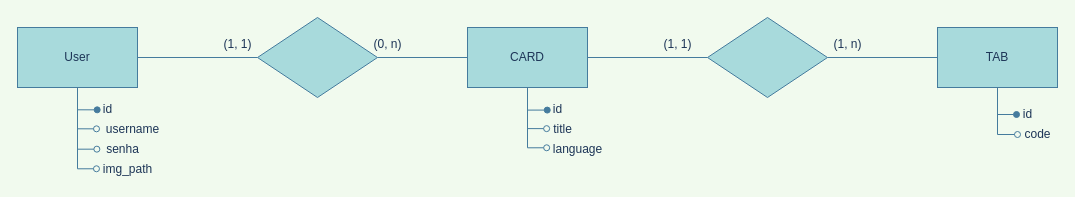
The diagram is 1075 pixels wide and 197 high, and some of its shapes have lost their labels. Here are the shapes that lost their labels. From the top down, the centre of each, then its label:
At point 317,57: "user_card".
At point 767,57: "card_tab".
